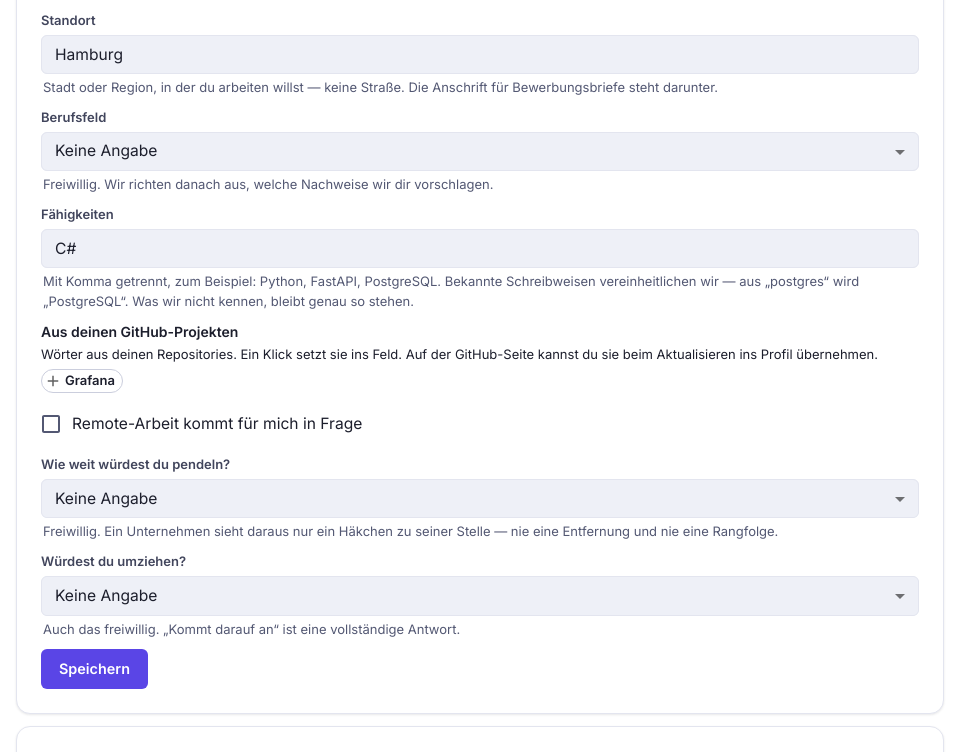
Scenario: ProfilePage — Vorschläge aus Belegen › schlägt auch die Technologien der eigenen Arbeiten vor
The width and height of the screenshot is (961, 752).
(page scrolled)
Step 1. Click the button "Grafana" → x=82, y=381, box [41,369,123,393]
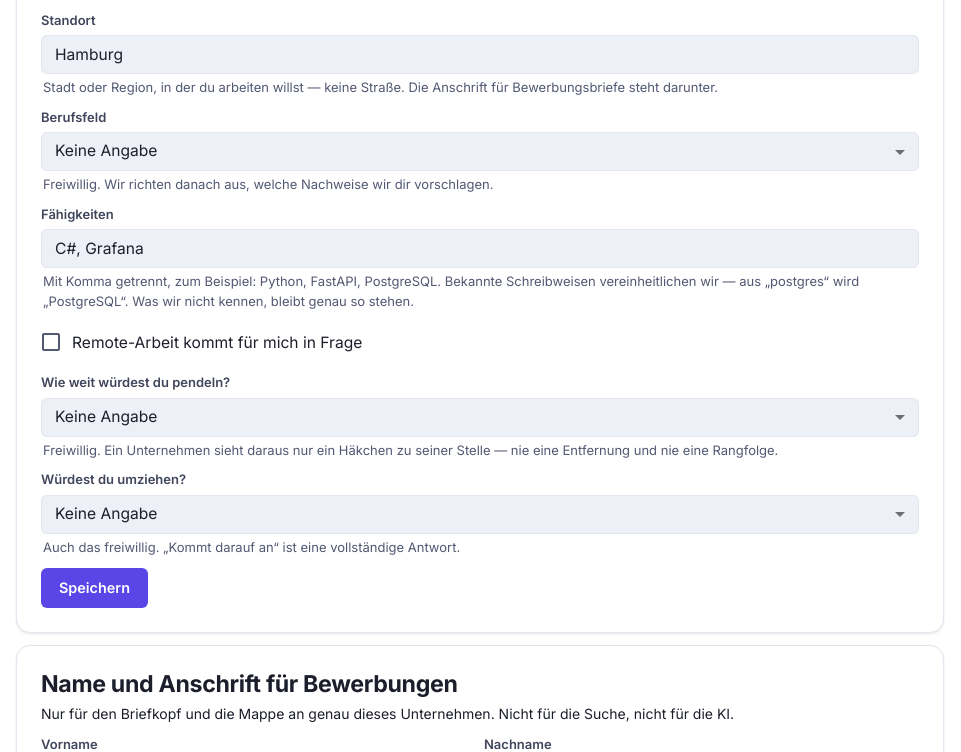
Result: the field labelled "Fähigkeiten" holds "C#, Grafana" at [41,229,919,268]
